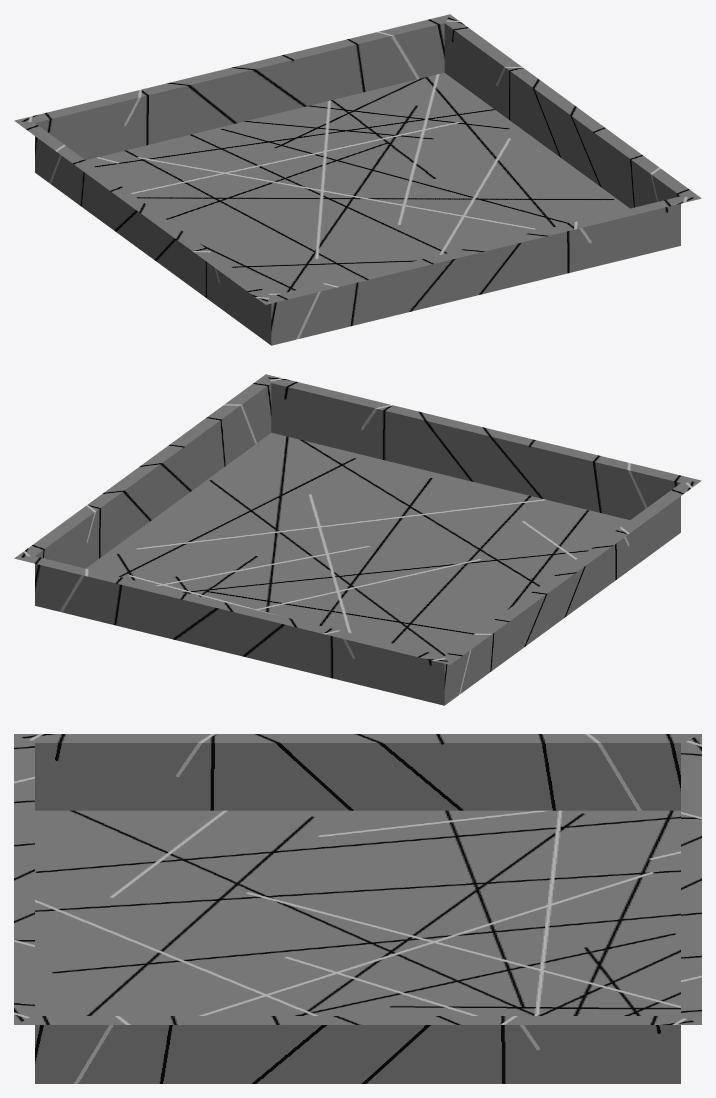
File: sandBox.fbx
The picture shows the model from 3 angles, top to bottom: view 1: azimuth 30°, elevation 25°; view 2: azimuth 150°, elevation 25°; view 3: azimuth 270°, elevation 25°; orthographic projection. The views are drawn at different scales.
Parts seen in each view (by area): view 1: sandboxTest; view 2: sandboxTest; view 3: sandboxTest.
Part boxes in pixels (x1=…): sandboxTest: x1=14, y1=14, x2=701, y2=345; sandboxTest: x1=14, y1=374, x2=701, y2=705; sandboxTest: x1=14, y1=734, x2=701, y2=1083.
Size of the model in its own units: 86.36 by 9.39 by 86.36.
